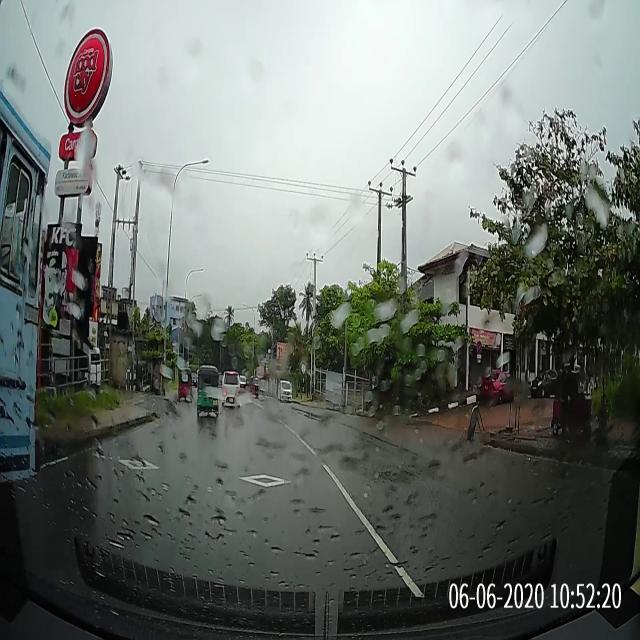diamond: (186, 466, 348, 491)
